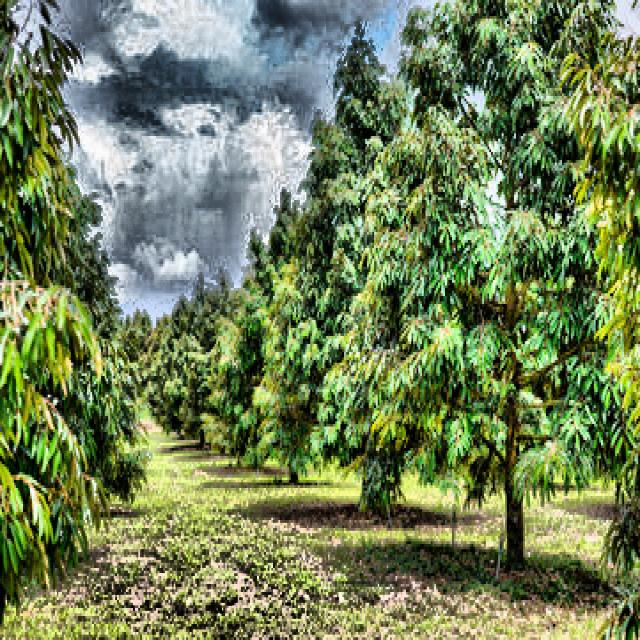arvore: (491, 29, 538, 594)
